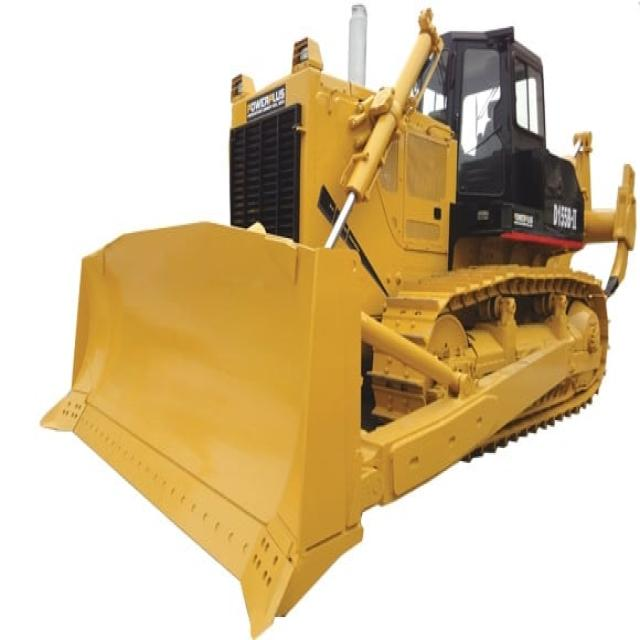buldozerpayloadergrader: (45, 14, 635, 624)
